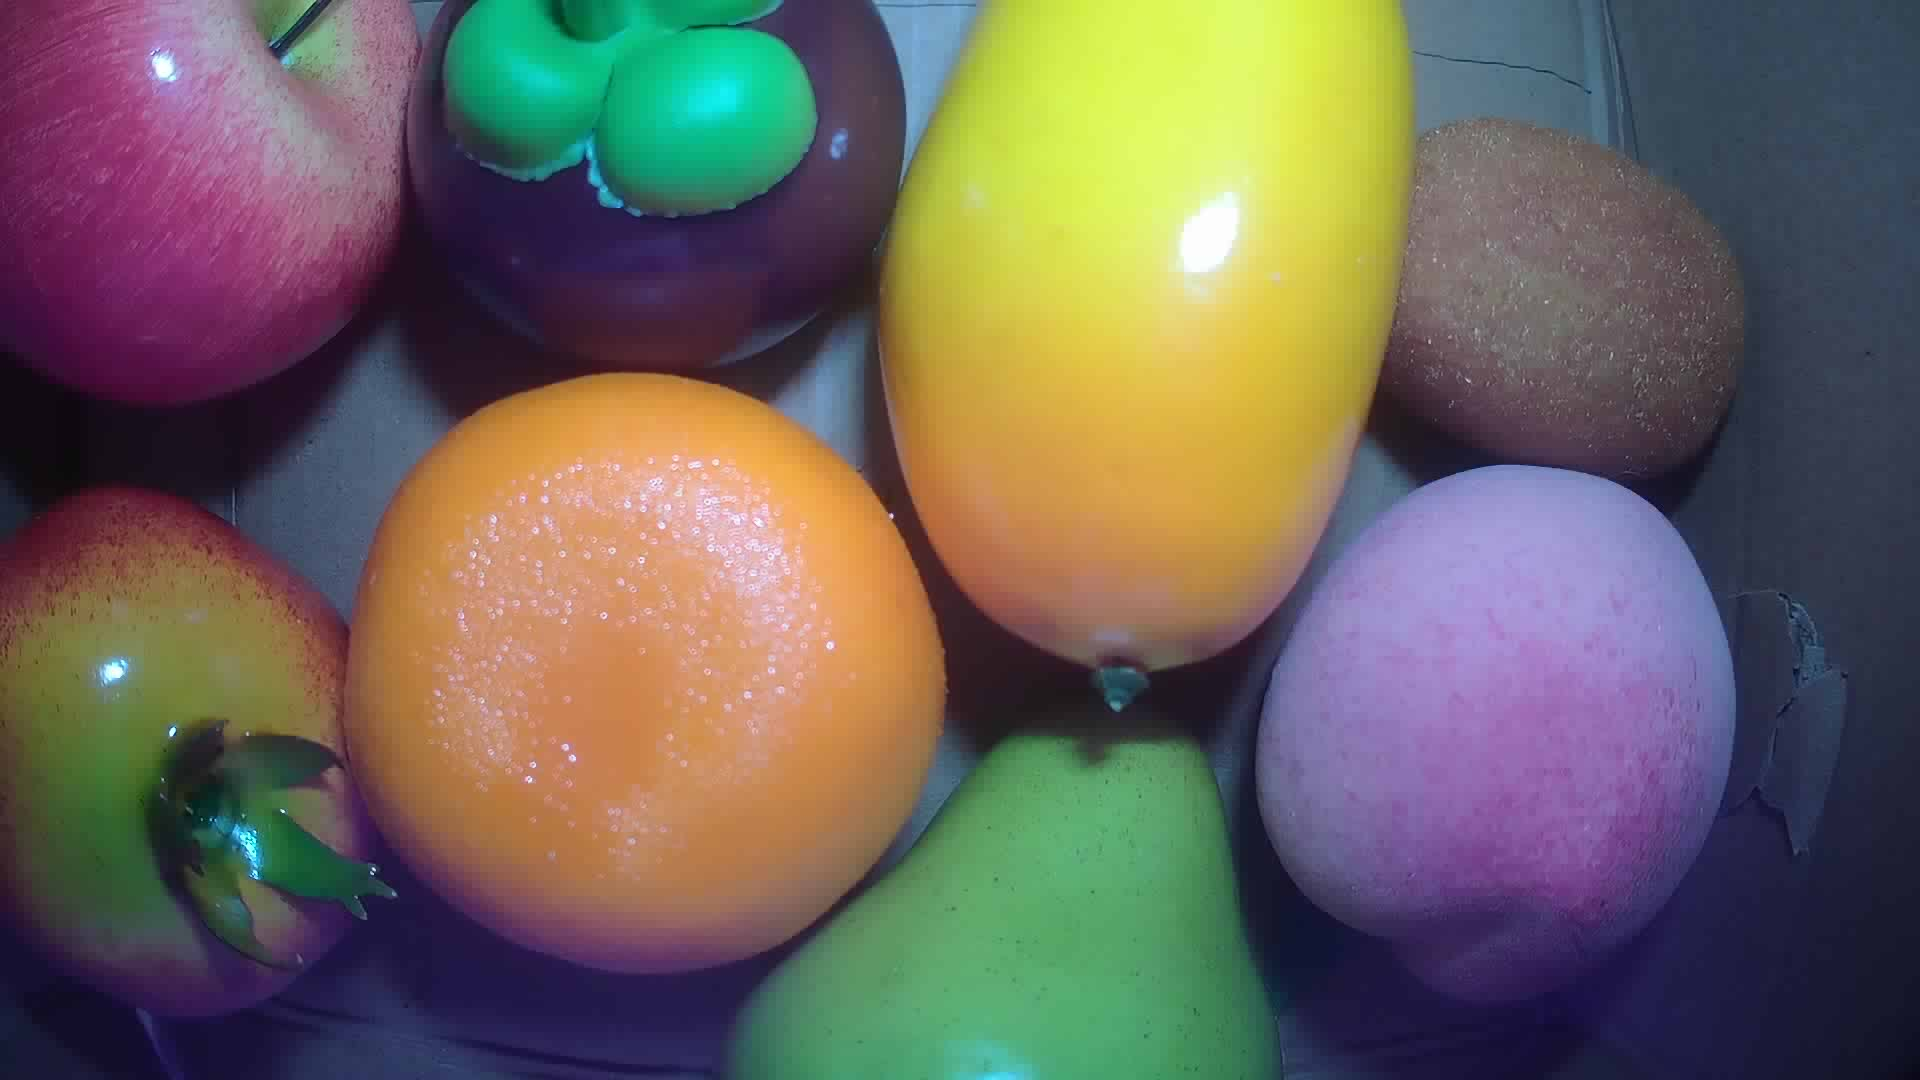apple: (1, 1, 425, 409)
kiwi: (1375, 117, 1753, 477)
mango: (874, 1, 1422, 713)
mangosteen: (404, 1, 907, 369)
orange: (345, 369, 949, 980)
peach: (1257, 464, 1739, 1001)
pear: (724, 686, 1286, 1080)
pomegranate: (1, 487, 378, 1018)
